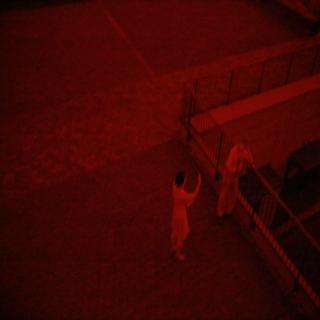person: (214, 131, 264, 227), (163, 162, 201, 271)
